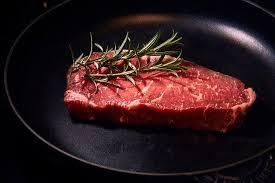beef: (28, 14, 110, 38)
